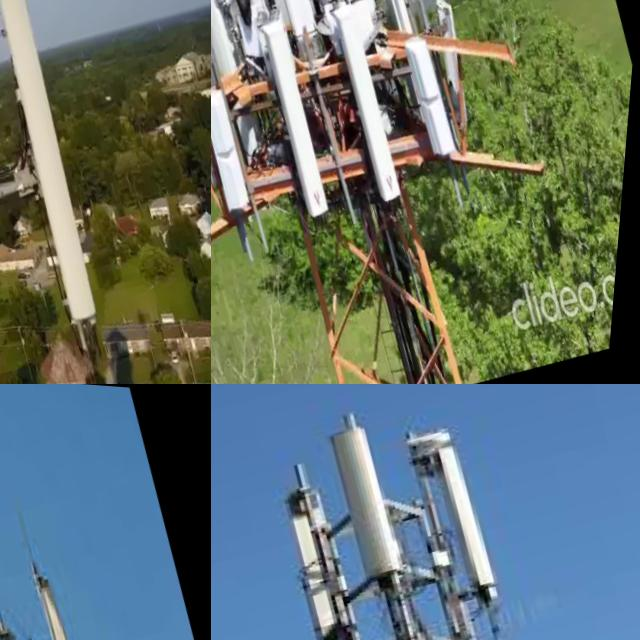GSM Antenna: (0, 0, 145, 316), (247, 6, 358, 225), (320, 0, 431, 206), (402, 417, 525, 599), (314, 406, 433, 592), (15, 550, 151, 640), (394, 22, 478, 165), (279, 501, 356, 632), (211, 78, 275, 217), (211, 0, 259, 80), (211, 48, 238, 181), (365, 0, 434, 35), (277, 0, 334, 42)
